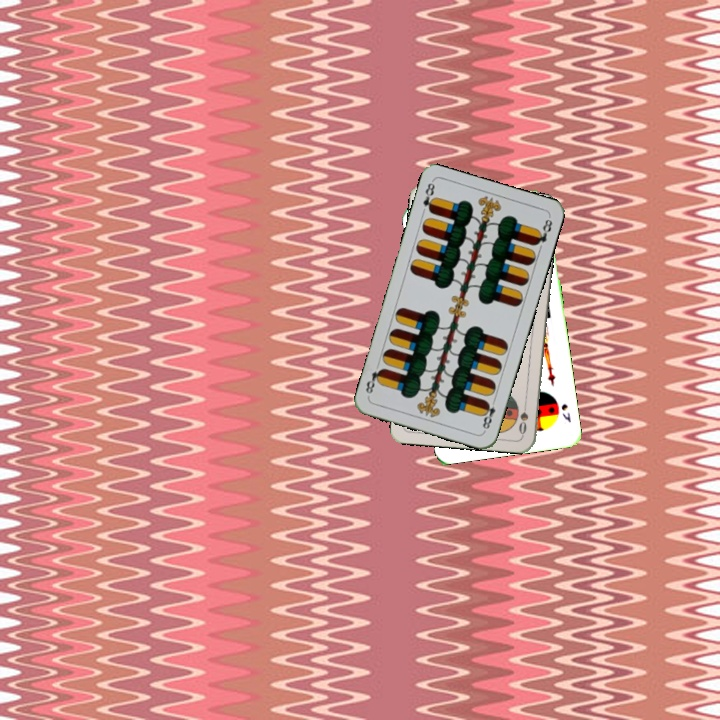E8: (417, 179, 439, 218), (478, 394, 499, 434)
SK: (557, 400, 573, 425)
SO: (515, 396, 531, 437)
